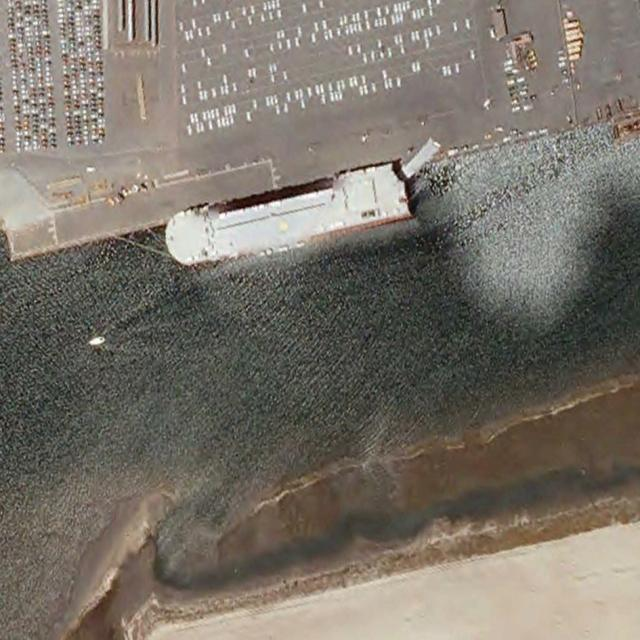RoRo: (161, 158, 411, 271)
